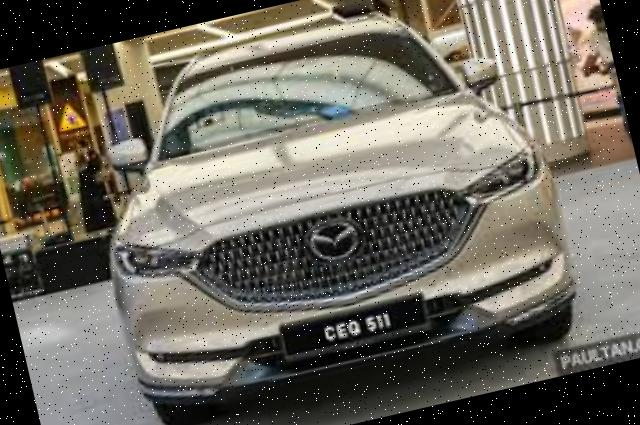License_Plate: (266, 284, 451, 367)
car: (66, 1, 582, 425)
